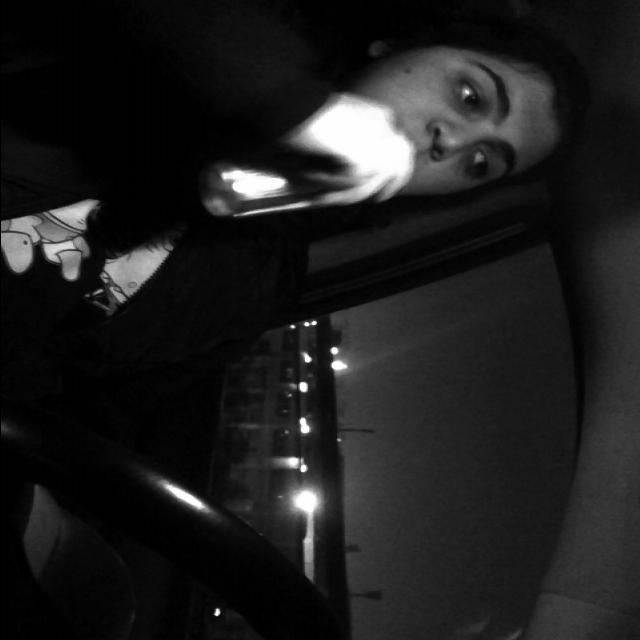drinking: (202, 132, 390, 226)
